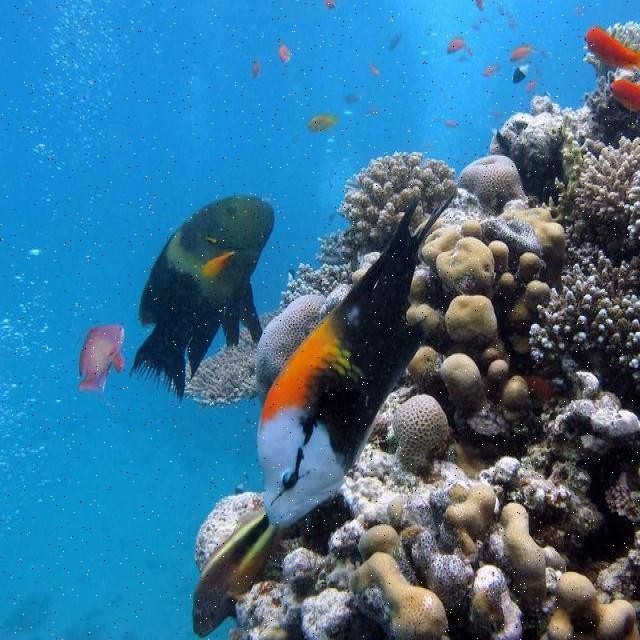fish: (255, 185, 460, 529), (128, 196, 277, 401), (191, 512, 281, 639), (77, 324, 127, 417), (584, 26, 639, 66), (609, 78, 639, 108)
reefs: (532, 140, 639, 384), (317, 152, 459, 260), (186, 330, 257, 405)
